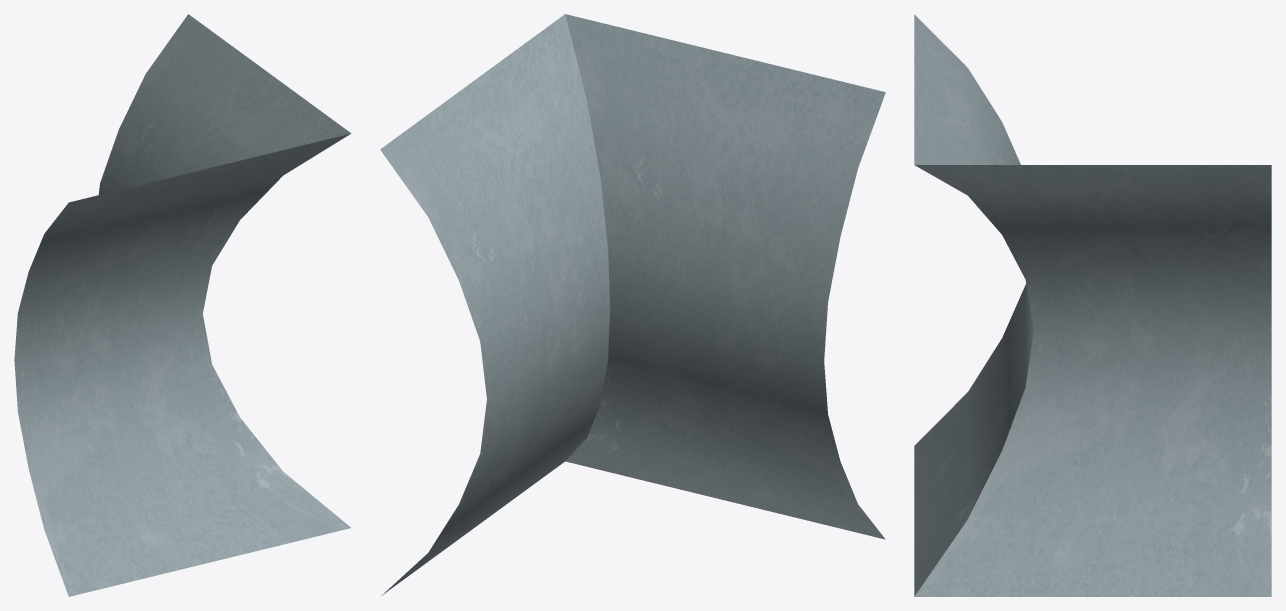
Rendered from BasicWall_OutsideCorner.fbx.
3 renders of one model, left to right at view 1: azimuth 30°, elevation 25°; view 2: azimuth 150°, elevation 25°; view 3: azimuth 270°, elevation 25°, orthographic. The views are drawn at different scales.
Parts seen in each view (by area): view 1: pPlane4; view 2: pPlane4; view 3: pPlane4.
Part boxes in pixels (left/top/right/bottom): pPlane4: left=14, top=14, right=351, bottom=596; pPlane4: left=380, top=14, right=885, bottom=595; pPlane4: left=914, top=14, right=1271, bottom=596.
Bounding box in the file's own units: 3 × 4 × 3.
